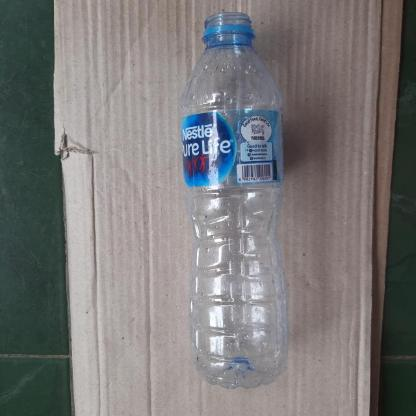Plastic Bottle: (180, 11, 292, 389)
